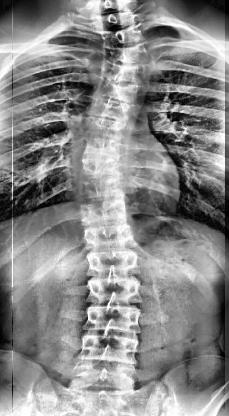Vertebrae: (70, 363, 144, 393), (77, 334, 141, 366), (84, 245, 146, 277), (82, 304, 144, 336), (70, 154, 132, 182), (84, 277, 146, 305), (74, 176, 132, 204), (76, 115, 130, 143), (76, 200, 134, 226), (100, 45, 156, 71), (96, 58, 148, 86), (84, 96, 136, 124), (82, 222, 138, 248), (94, 76, 144, 104), (98, 27, 150, 51), (74, 136, 126, 160), (89, 12, 144, 34)
